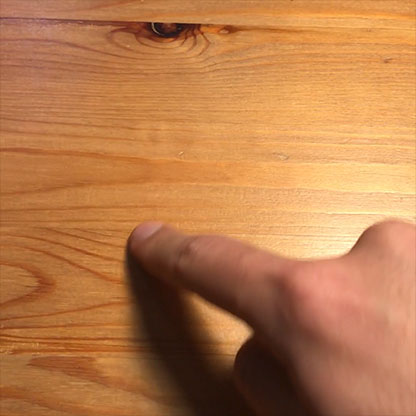fingertip: (119, 209, 170, 254)
